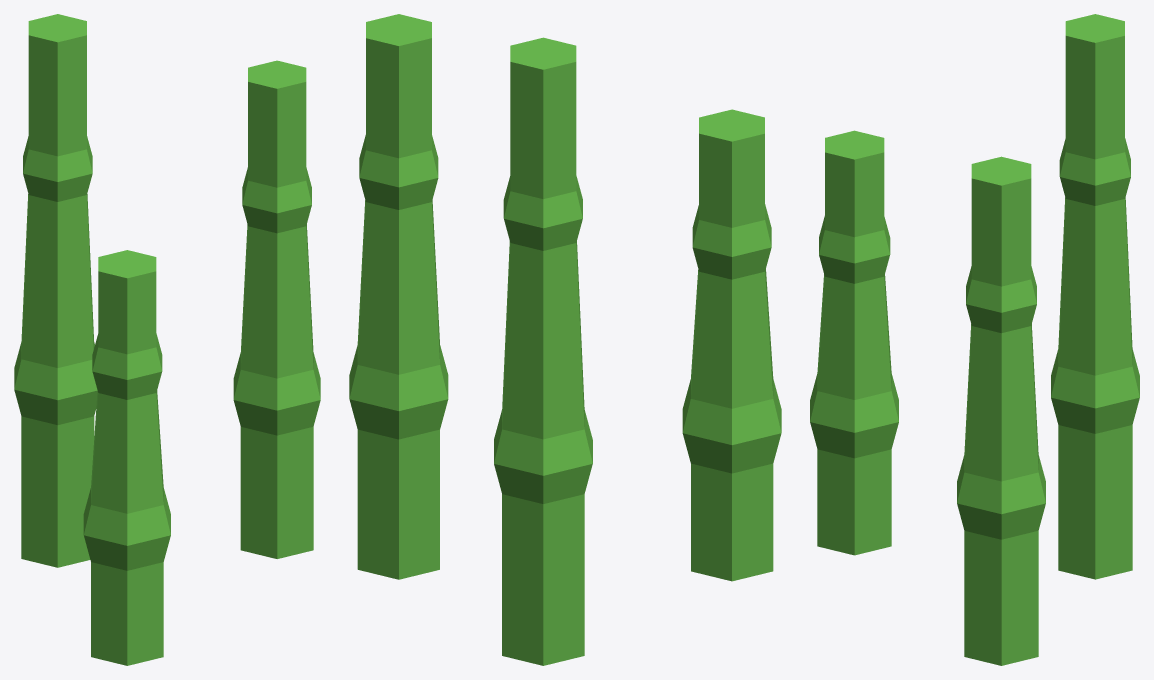
File: crops_bambooStageA.glb
3 renders of one model, left to right at view 1: azimuth 30°, elevation 25°; view 2: azimuth 150°, elevation 25°; view 3: azimuth 270°, elevation 25°, orthographic. The views are drawn at different scales.
Parts seen in each view (by area): view 1: crops_bambooStageA; view 2: crops_bambooStageA; view 3: crops_bambooStageA.
Boxes of the visible parts, x1,y1,x2,y2 form: crops_bambooStageA: [14, 14, 320, 665]; crops_bambooStageA: [349, 14, 781, 665]; crops_bambooStageA: [810, 14, 1139, 665].
Bounding box in the file's own units: 0.3401 × 0.549 × 0.308.
